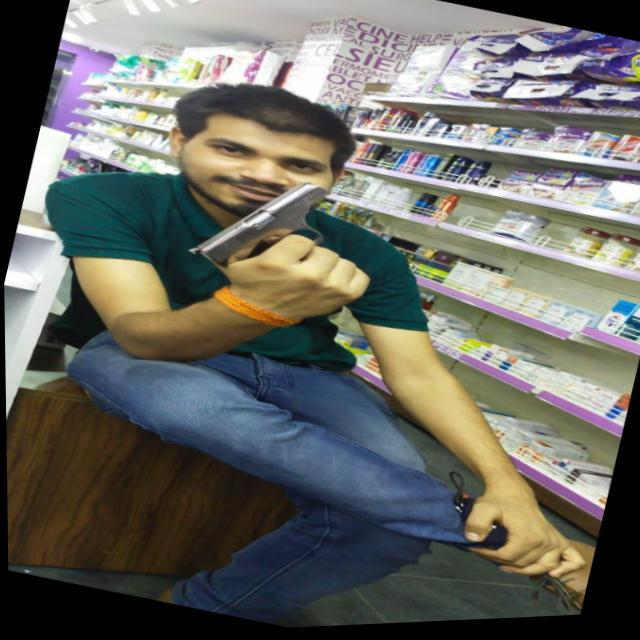weapon: (173, 156, 385, 334)
